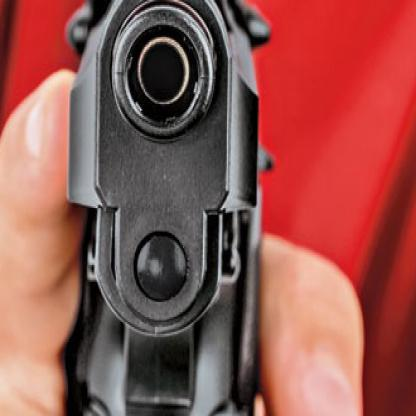gun: (46, 0, 284, 415)
